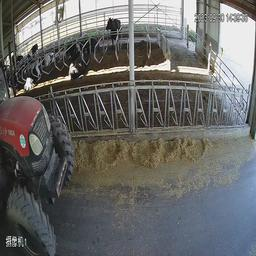cow: (64, 46, 92, 80), (105, 11, 125, 52), (77, 26, 101, 51)
